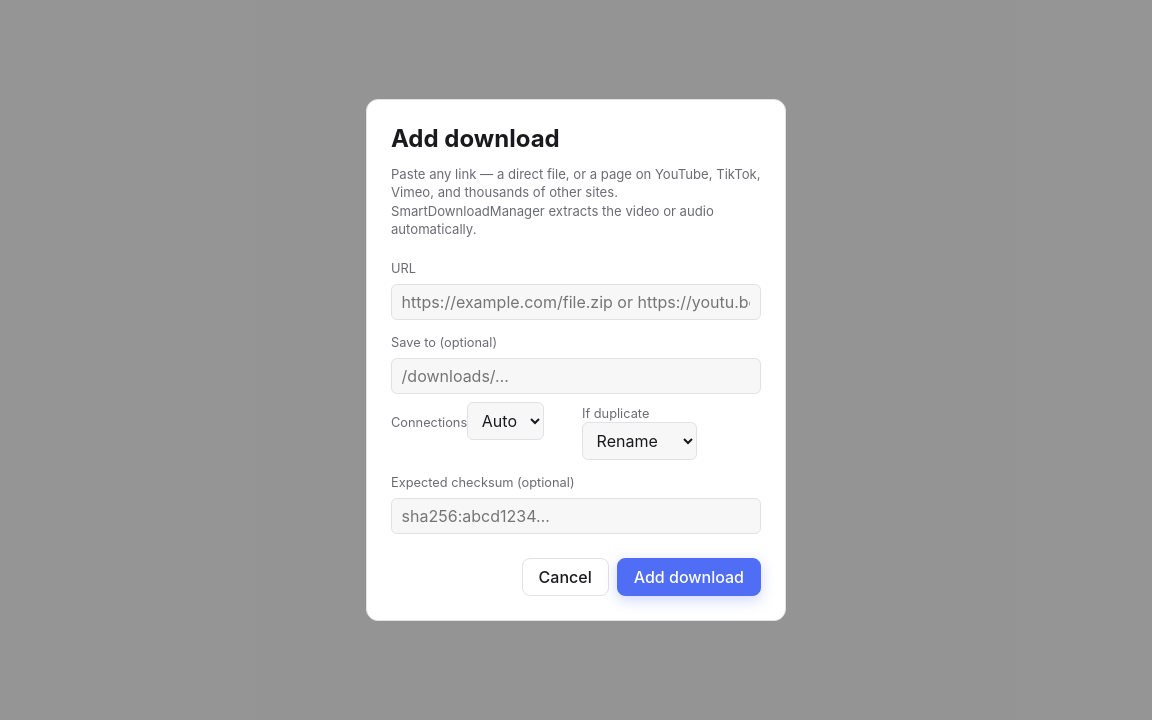
Test case: AddDownloadDialog › shows a validation error when submitting without a URL
Click the button "Add download" at (689, 577), box [617,558,761,596]
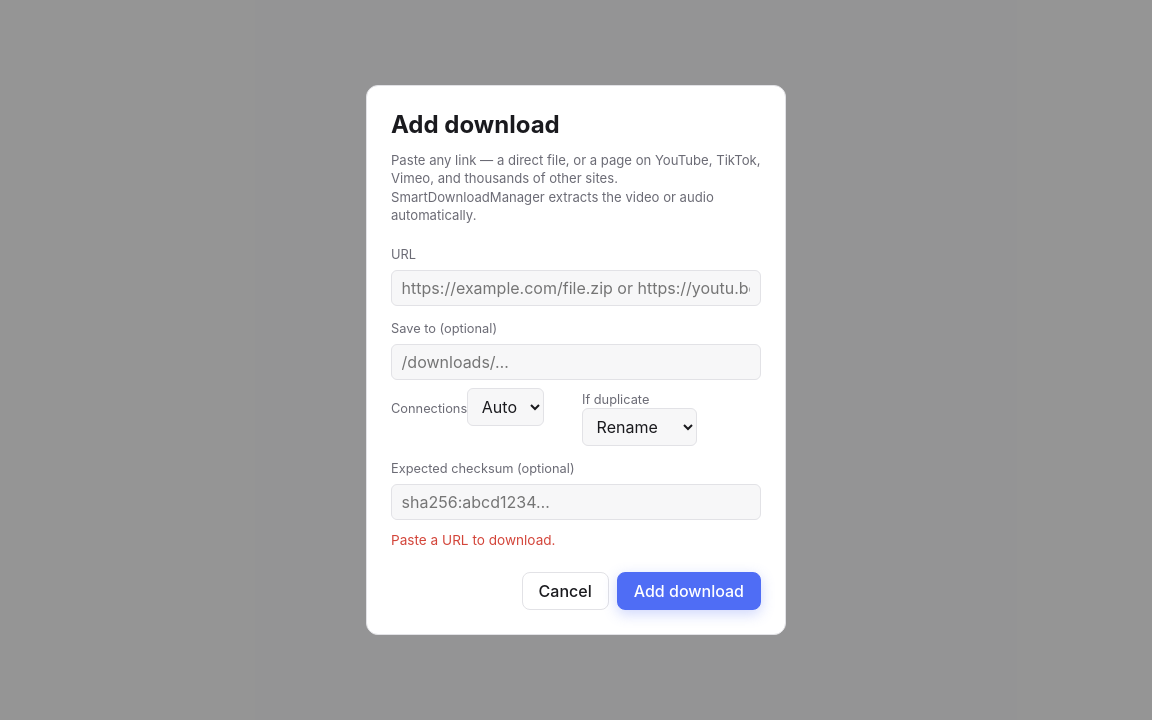
Check: the message shows "Paste a URL", box [391,532,556,548]
